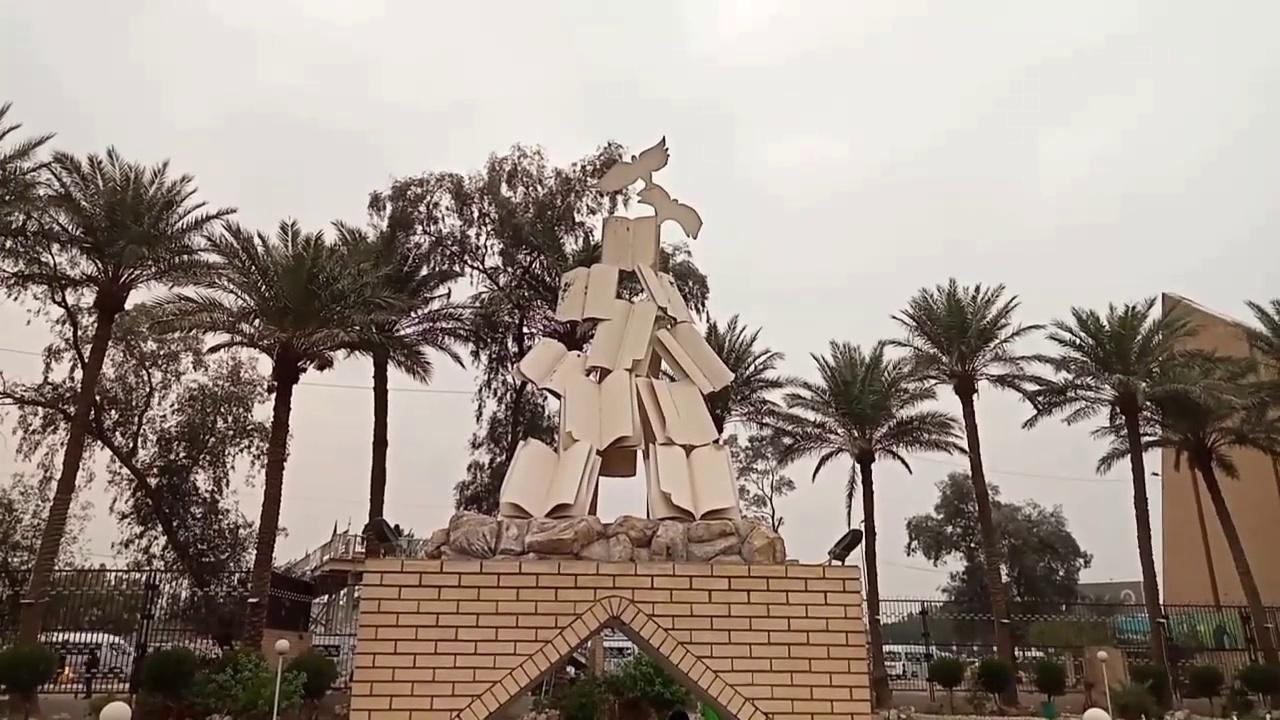car: (35, 629, 136, 686), (136, 626, 223, 663)
tree: (365, 137, 714, 518), (0, 138, 239, 672), (130, 214, 417, 653), (1021, 293, 1230, 710), (742, 337, 968, 709), (883, 276, 1049, 711), (319, 213, 469, 541), (1129, 356, 1277, 667), (903, 468, 1092, 698), (695, 311, 794, 533), (531, 649, 695, 718), (1226, 295, 1279, 491), (282, 646, 338, 718), (926, 654, 969, 714), (1127, 659, 1174, 712), (975, 654, 1016, 712), (1234, 660, 1279, 710), (1030, 657, 1067, 717), (1185, 662, 1225, 716), (1109, 678, 1158, 718)
